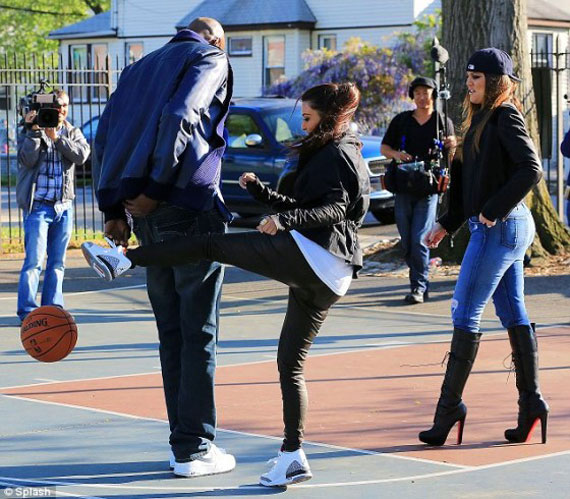Person: (96, 22, 238, 480), (443, 47, 543, 435), (246, 105, 349, 460), (10, 86, 77, 311)
